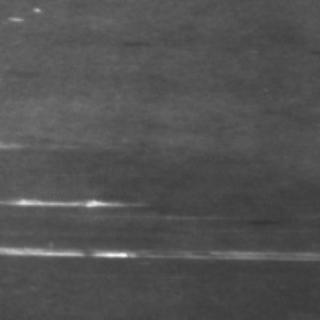scratches: (0, 238, 314, 262), (1, 193, 148, 210)
